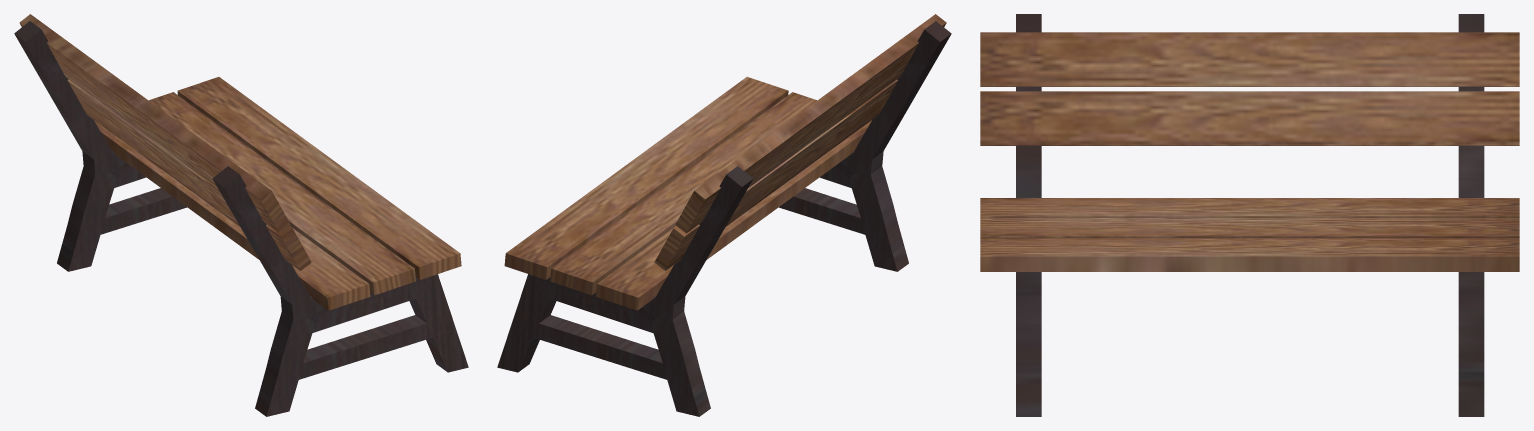
The model's file is bench.obj.
3 views of the same model, side by side, from view 1: azimuth 30°, elevation 25°; view 2: azimuth 150°, elevation 25°; view 3: azimuth 270°, elevation 25° (orthographic). The views are drawn at different scales.
Parts seen in each view (by area): view 1: bench; view 2: bench; view 3: bench.
Boxes of the visible parts, bbox=[...] form: bench: bbox=[14, 14, 468, 416]; bench: bbox=[497, 14, 951, 416]; bench: bbox=[980, 14, 1519, 416].
Bounding box in the file's own units: 1.05 × 1.03 × 1.8.
1 material, 1 textured.
